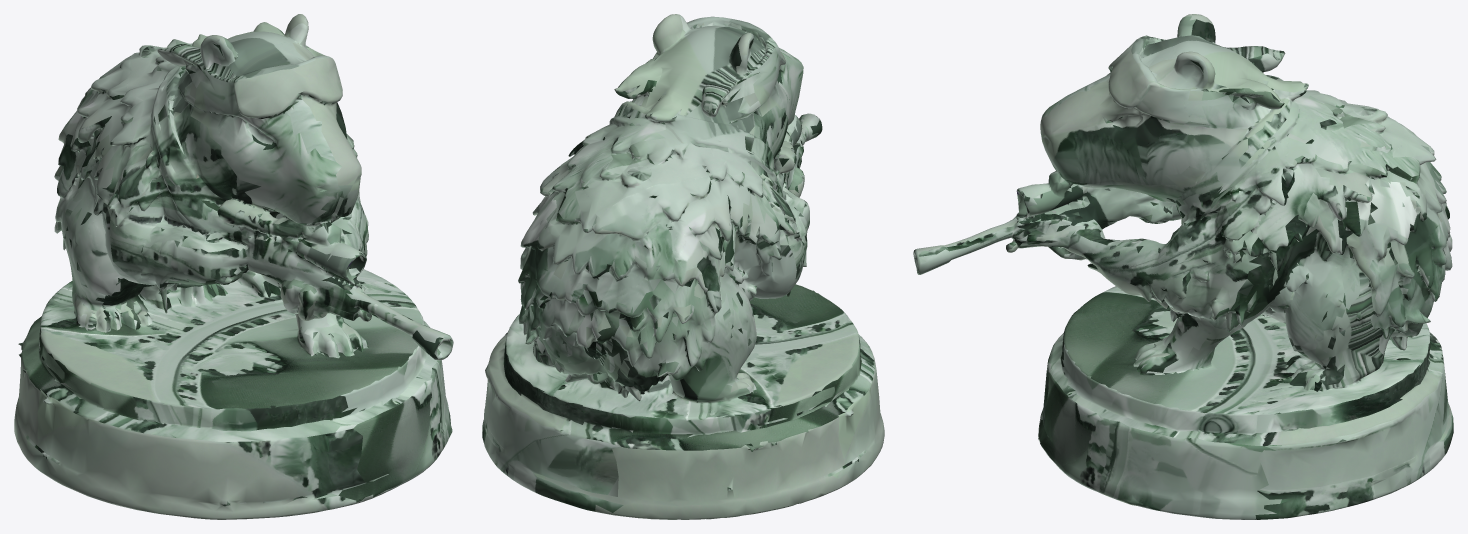
File: sniper_t.fbx
3 views of the same model, side by side, from view 1: azimuth 30°, elevation 25°; view 2: azimuth 150°, elevation 25°; view 3: azimuth 270°, elevation 25° (orthographic). The views are drawn at different scales.
Visible parts, largest first — view 1: Mesh_0; view 2: Mesh_0; view 3: Mesh_0.
Part boxes in pixels (x1,y1,x2,y2): Mesh_0: (14, 14, 453, 519); Mesh_0: (482, 14, 884, 519); Mesh_0: (913, 14, 1453, 519).
Size of the model in its own units: 154 by 163 by 200.
